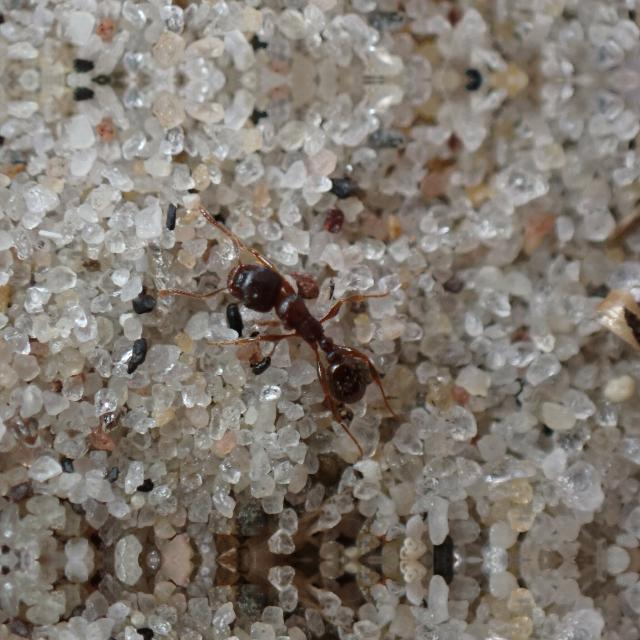Tetramorium: (185, 216, 402, 422)
